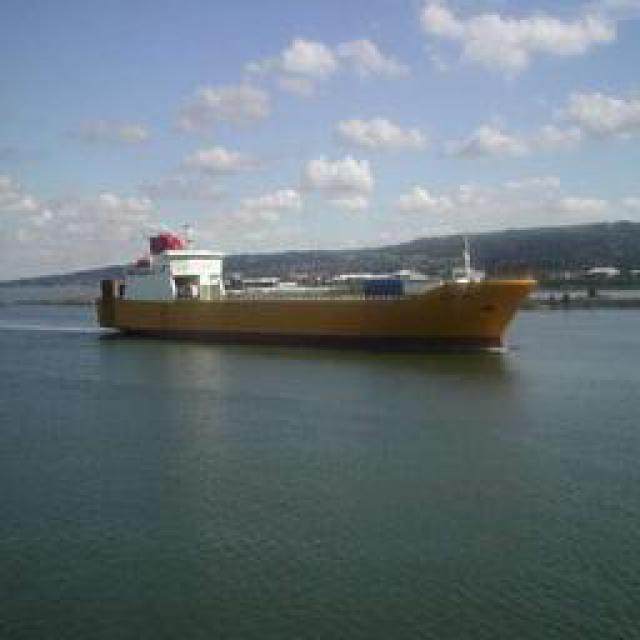Ship: (99, 230, 544, 350)
